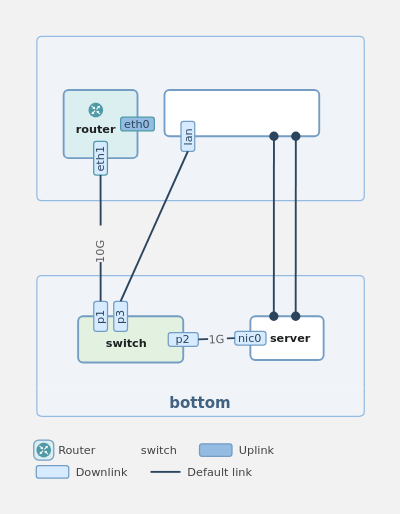
Some shapes in this 400 by 514 pixel diagram are drawn without their labels. Each missing label, with the box of its shape:
edge: (163, 88, 320, 137)
top: (36, 35, 364, 201)
